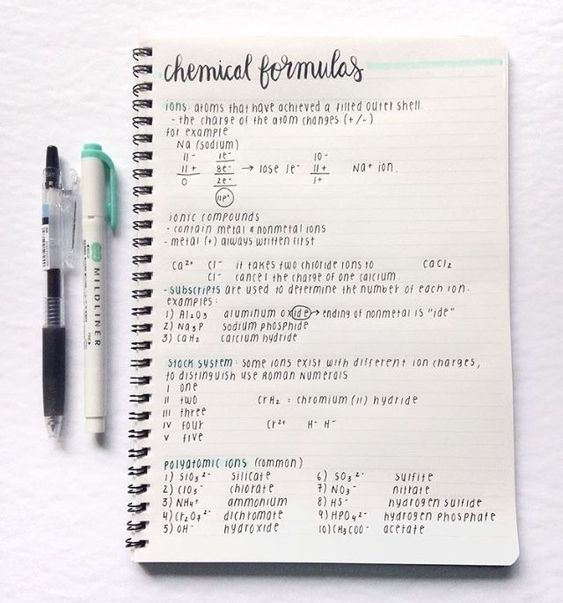page: (156, 43, 506, 563)
